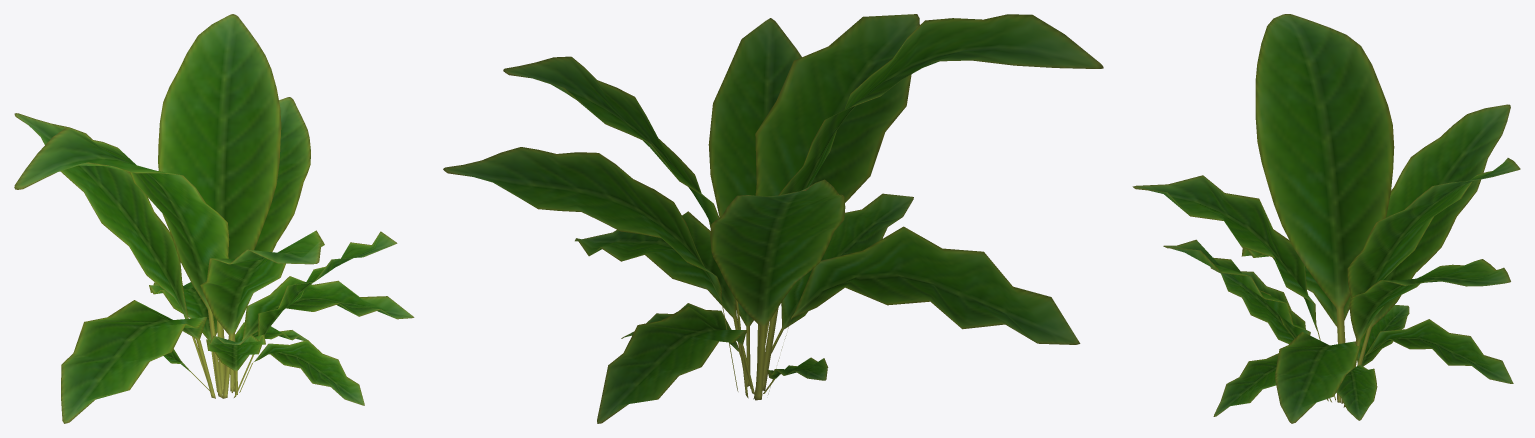
Rendered from plante-2.glb.
The picture shows the model from 3 angles, left to right: view 1: azimuth 30°, elevation 25°; view 2: azimuth 150°, elevation 25°; view 3: azimuth 270°, elevation 25°; orthographic projection. The views are drawn at different scales.
Parts seen in each view (by area): view 1: Object_5.504; view 2: Object_5.504; view 3: Object_5.504.
Part boxes in pixels (x1,y1,x2,y2): Object_5.504: (14, 14, 414, 423); Object_5.504: (443, 14, 1103, 423); Object_5.504: (1132, 14, 1520, 423).
Size of the model in its own units: 0.851 by 0.6196 by 0.7369.
1 material, 1 textured.
